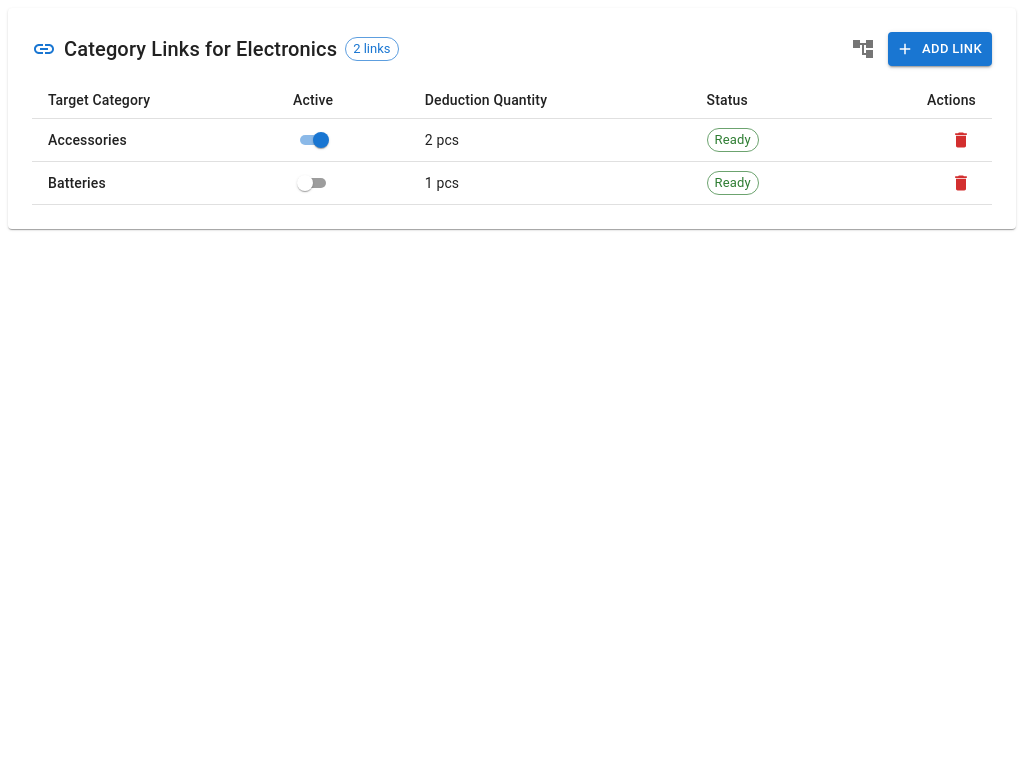
it: CategoryLinkManager › Add Link Dialog › opens add link dialog when Add Link button is clicked
Click the button "Add Link": (940, 49) [888,32,992,66]
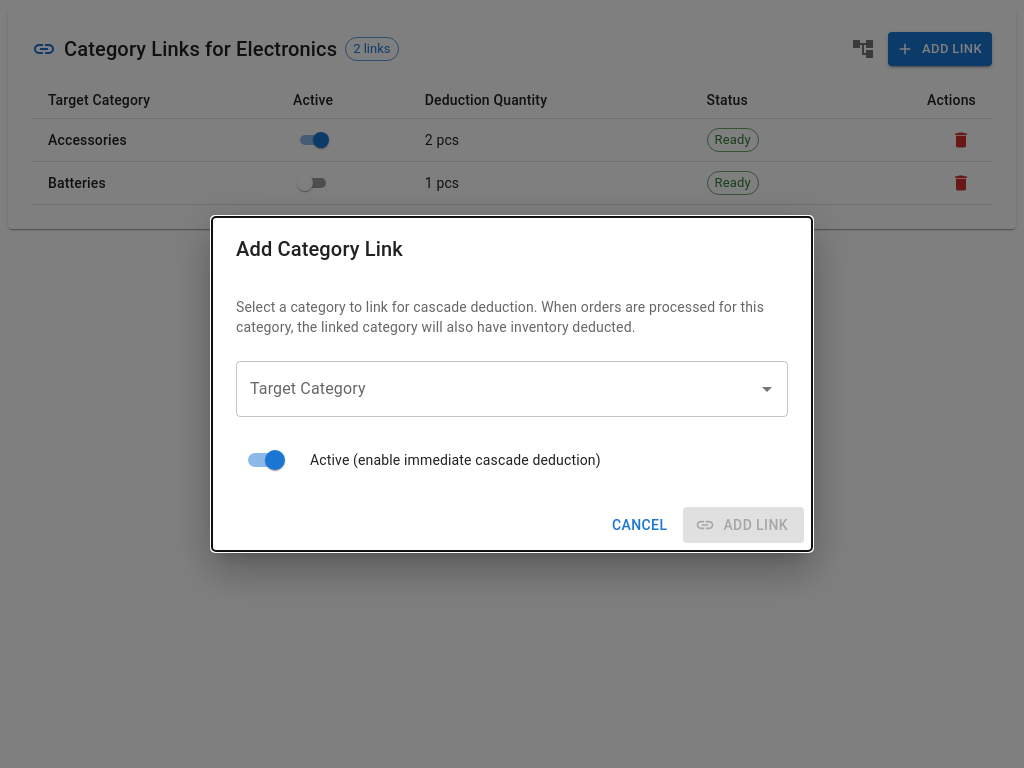
Check: the heading "Add Category Link" is shown, box [236,237,403,261]
